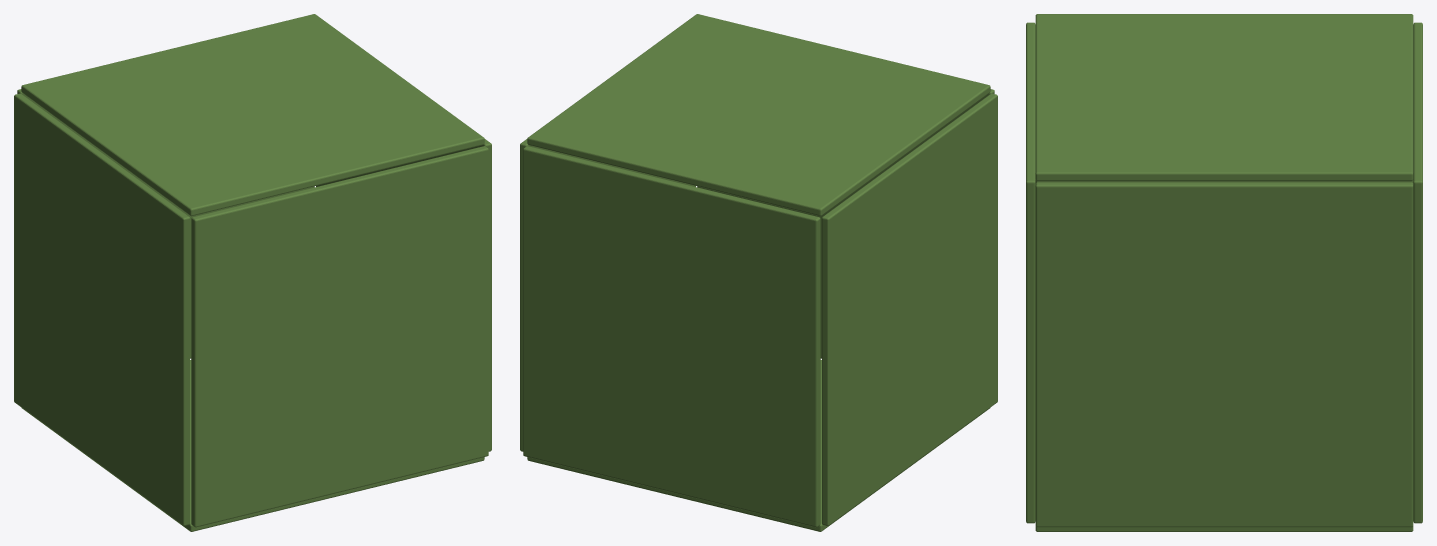
File: light_green.gltf
The picture shows the model from 3 angles, left to right: view 1: azimuth 30°, elevation 25°; view 2: azimuth 150°, elevation 25°; view 3: azimuth 270°, elevation 25°; orthographic projection. The views are drawn at different scales.
Visible parts, largest first — view 1: Cube_Cube.004; view 2: Cube_Cube.004; view 3: Cube_Cube.004.
Part boxes in pixels (bbox=[...]): Cube_Cube.004: bbox=[14, 14, 491, 531]; Cube_Cube.004: bbox=[520, 14, 997, 531]; Cube_Cube.004: bbox=[1026, 14, 1422, 531].
Size of the model in its own units: 2.1 by 2.1 by 2.1.
